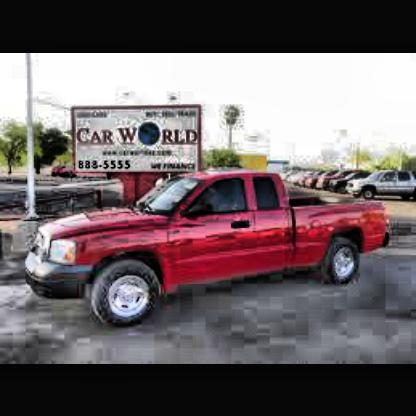Dodge Dakota Club Cab 2007: (24, 168, 395, 330)
